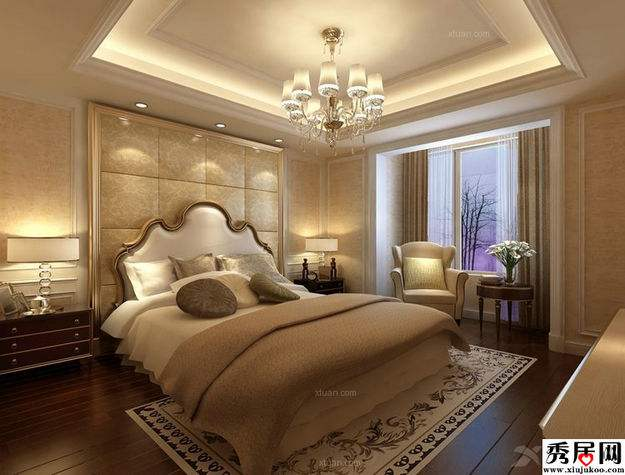床: (105, 280, 458, 455)
枕头: (122, 249, 295, 320)
灯: (271, 22, 384, 147), (3, 232, 84, 313), (298, 235, 341, 274), (130, 100, 149, 113), (210, 120, 226, 131)
